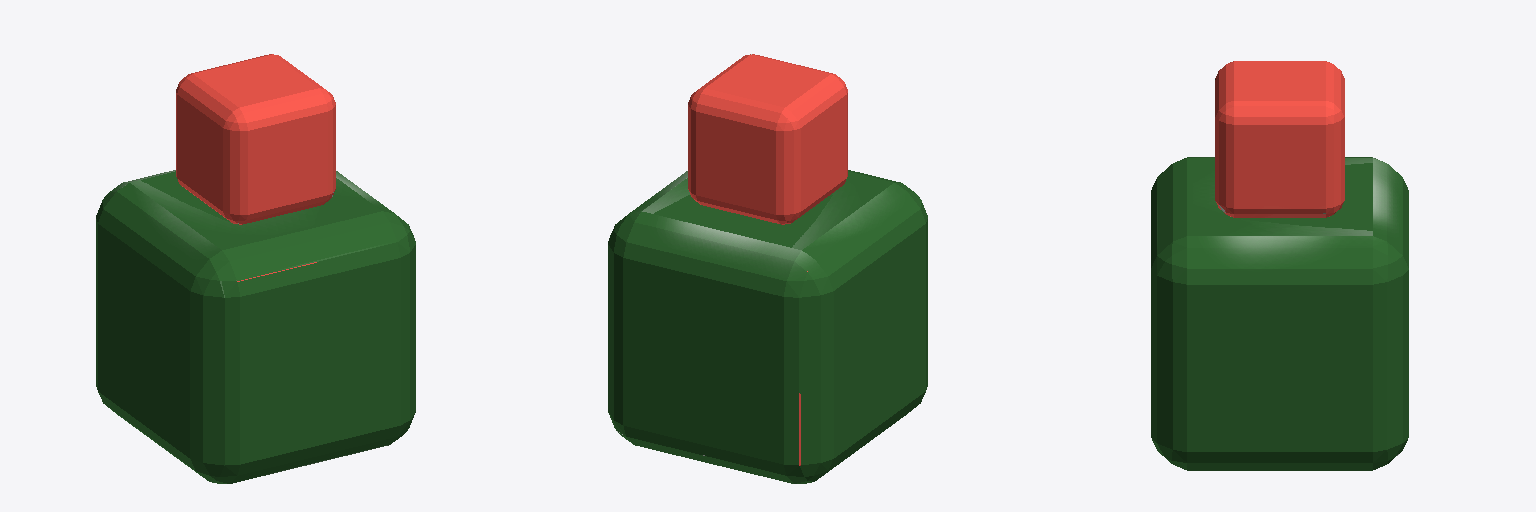
3 views of the same model, side by side, from view 1: azimuth 30°, elevation 25°; view 2: azimuth 150°, elevation 25°; view 3: azimuth 270°, elevation 25° (orthographic).
Parts seen in each view (by area): view 1: 立方体_立方体.002; view 2: 立方体_立方体.002; view 3: 立方体_立方体.002.
Part boxes in pixels (bbox=[...]): 立方体_立方体.002: bbox=[96, 54, 415, 483]; 立方体_立方体.002: bbox=[608, 54, 927, 483]; 立方体_立方体.002: bbox=[1151, 61, 1408, 470].
Bounding box in the file's own units: 2 × 2.99 × 2.
Materials: 1 (1 with a texture image).